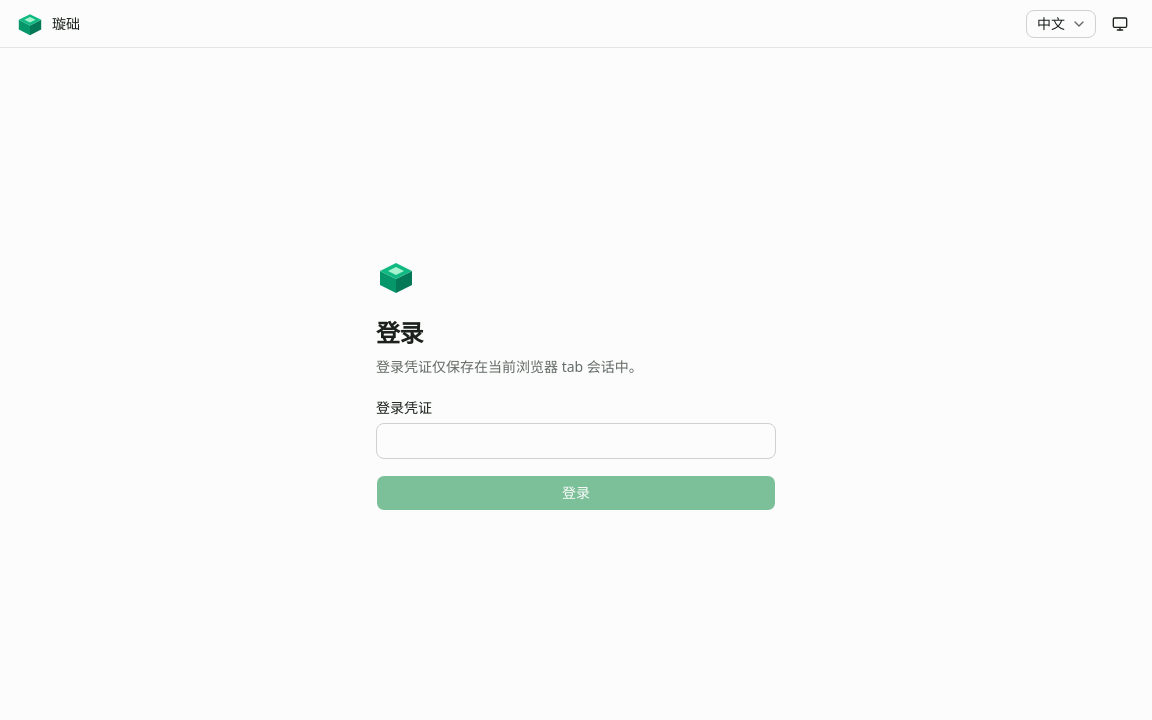
Scenario: LoginPage › renders the sign-in heading and supports language switching
This screenshot has width=1152, height=720.
Expected: the text "璇础" is shown, [52,14,80,34]
Expected: the heading "登录" is shown, [376,316,423,349]
Click the dropdown named "语言" at [1061, 24], box [1026,10,1096,38]
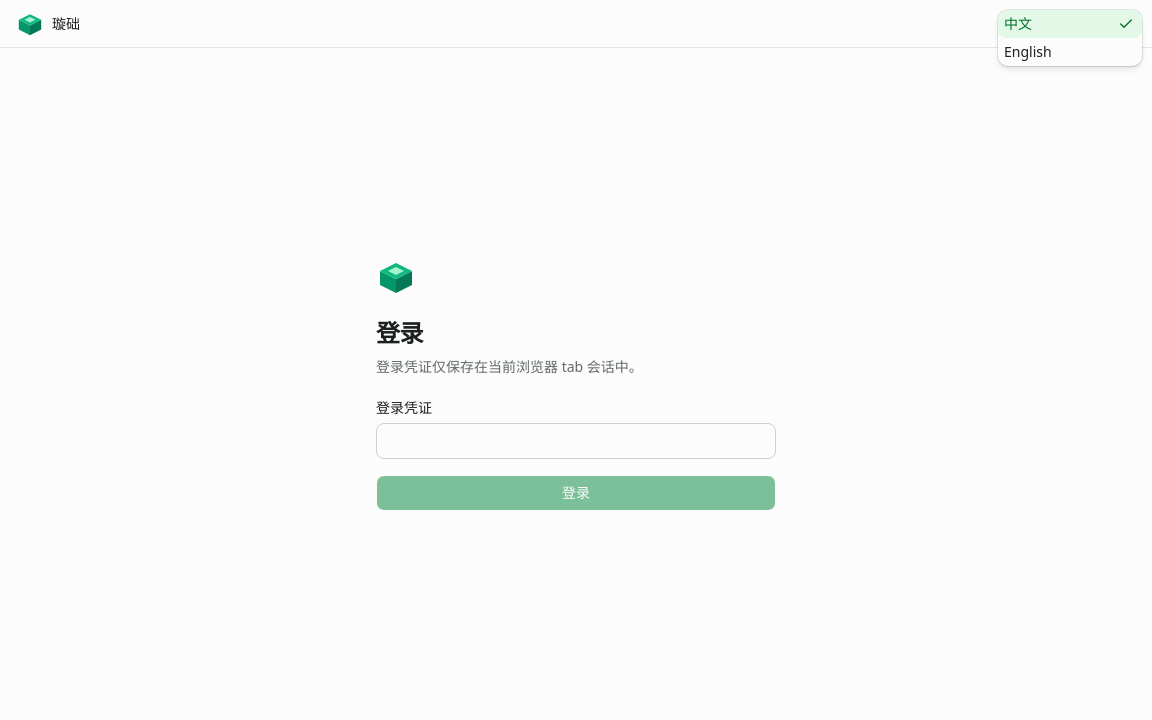
Click the option "English" at [1028, 52], box [1004,42,1052,61]
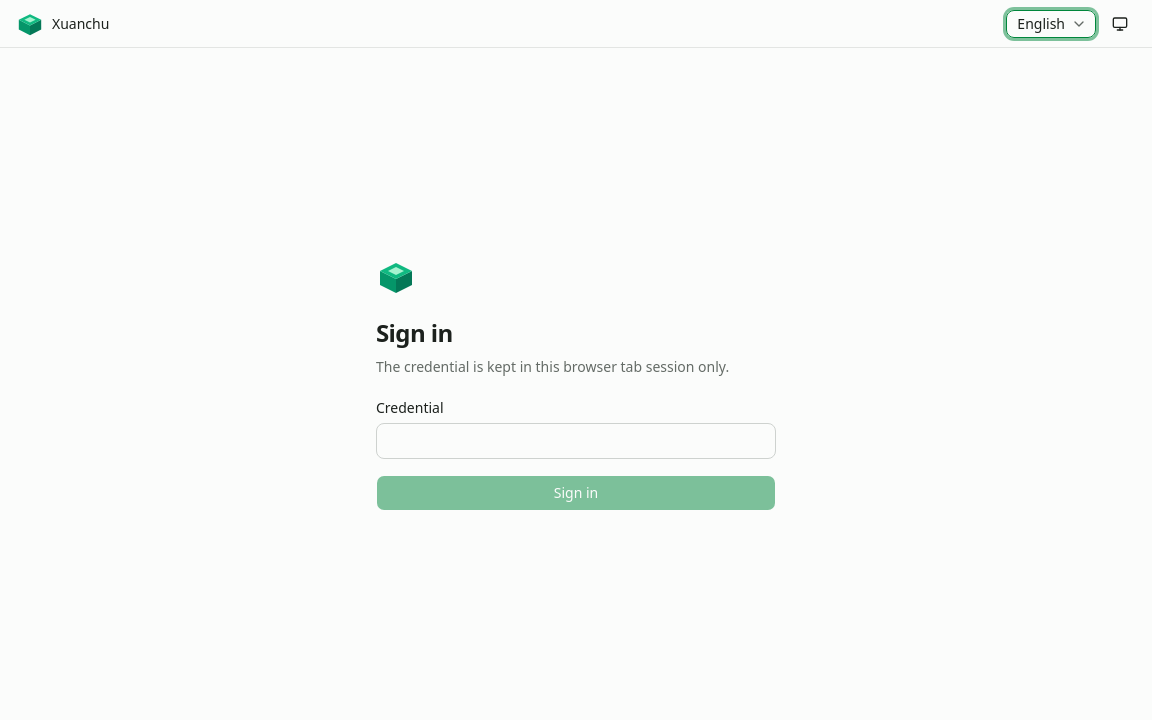
Expected: the text "Xuanchu" is shown, [52,14,109,34]
Expected: the button "Sign in" is shown, [376,475,776,511]
